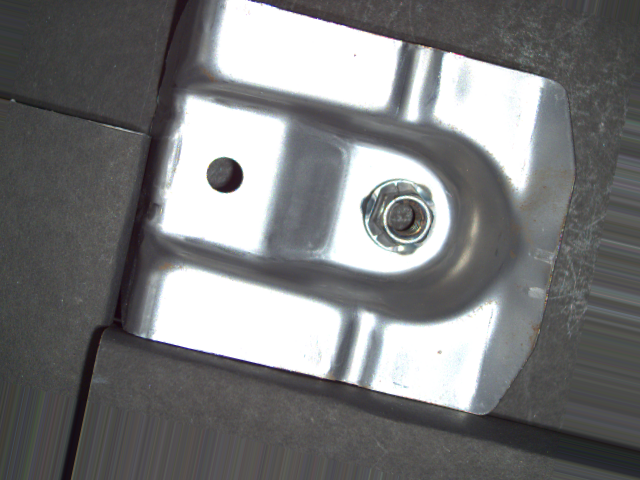good: (358, 178, 442, 259)
